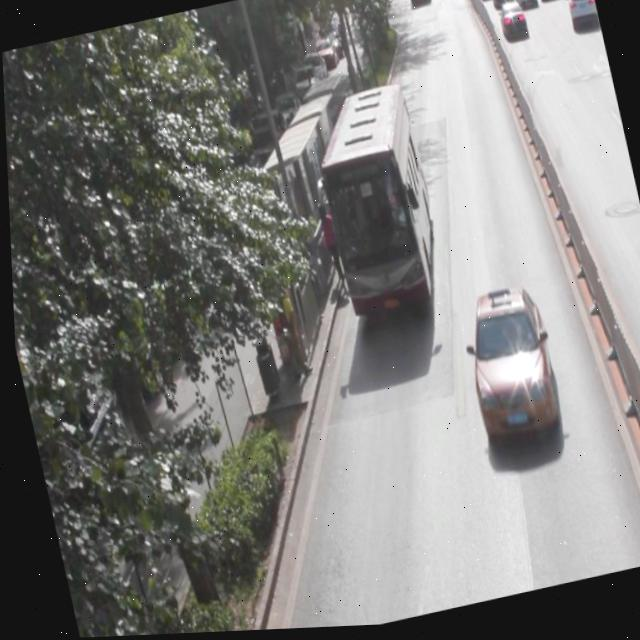car: (451, 284, 560, 452)
van: (302, 84, 445, 327)
